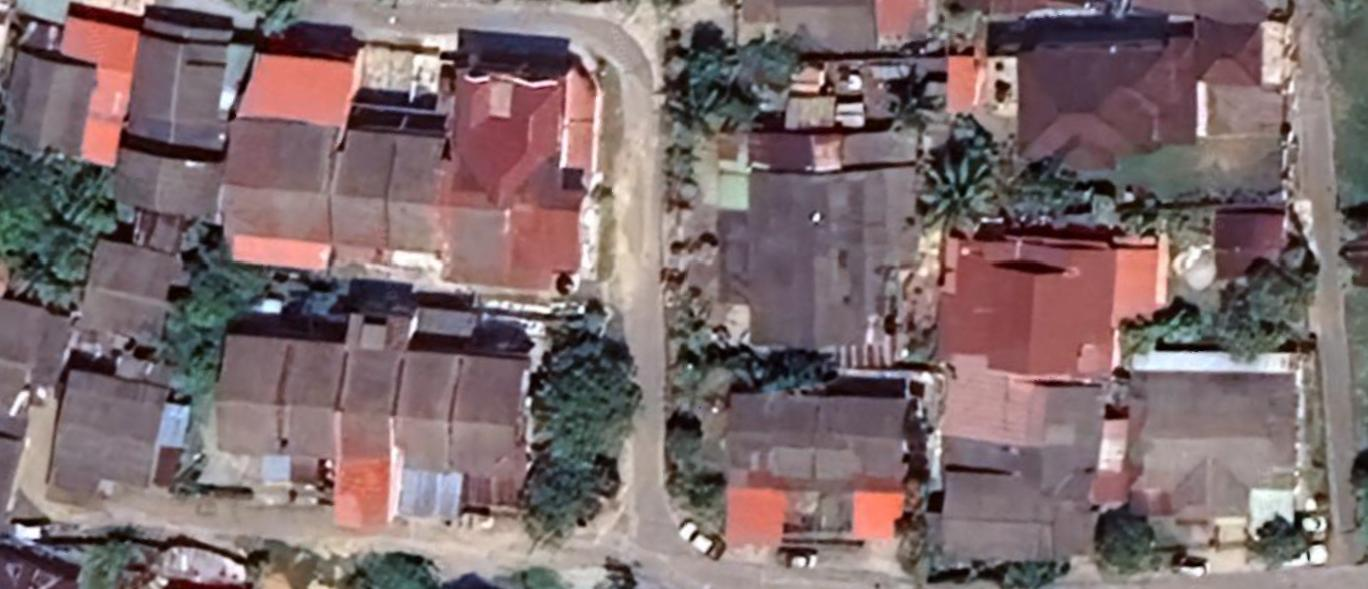building: (709, 115, 927, 358), (1012, 7, 1272, 178), (926, 231, 1169, 388), (935, 376, 1125, 572), (218, 36, 361, 274), (1119, 365, 1308, 530), (0, 0, 147, 177), (39, 358, 195, 514), (449, 57, 607, 206), (721, 386, 829, 559), (327, 310, 409, 530), (817, 387, 920, 547), (443, 349, 536, 516), (193, 322, 283, 491), (383, 340, 457, 524), (271, 330, 341, 488), (123, 6, 193, 151), (443, 160, 520, 289), (64, 276, 183, 359), (342, 117, 407, 256), (177, 17, 239, 156), (394, 124, 453, 256), (518, 201, 587, 300), (84, 235, 195, 295)
